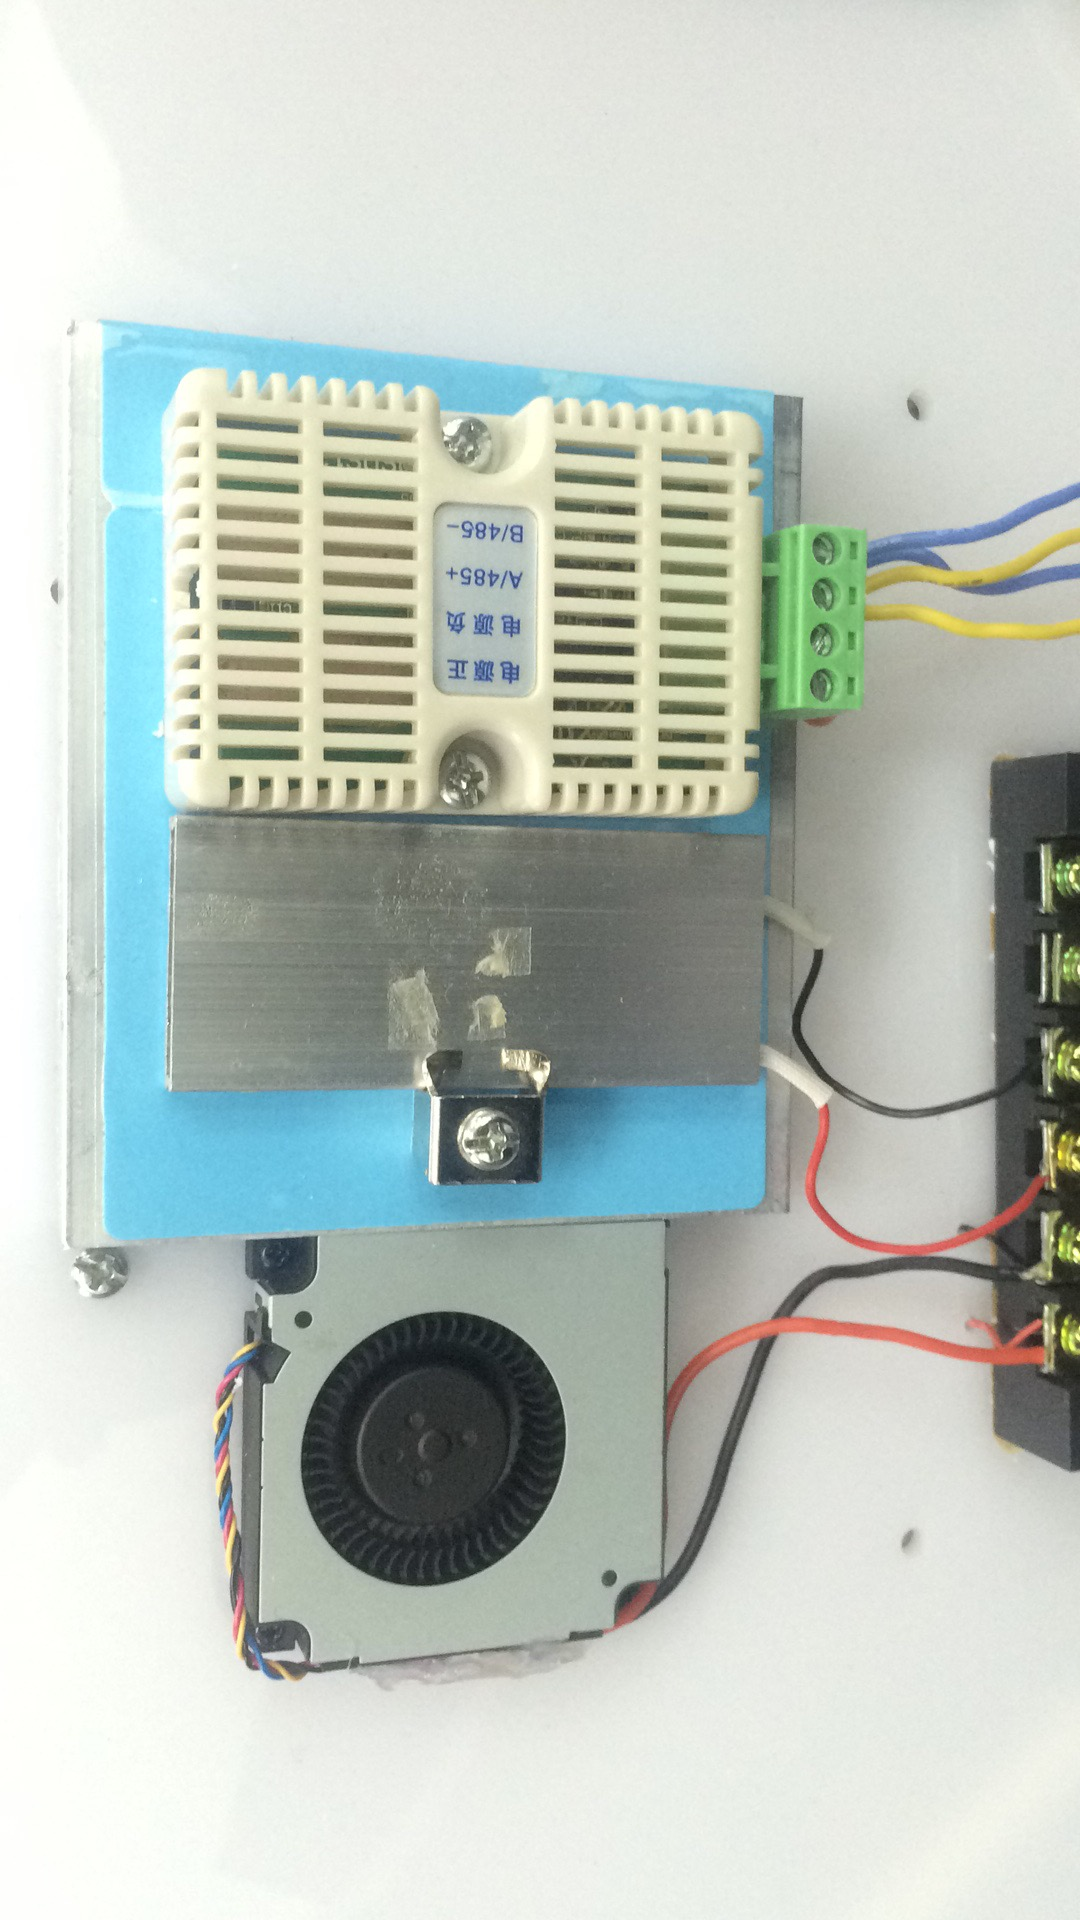fan: (229, 1220, 694, 1687)
heater: (156, 818, 777, 1110)
temperature: (145, 360, 777, 824)
